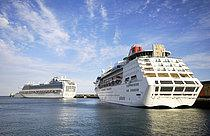Ship: (92, 40, 205, 112), (16, 75, 81, 102)
